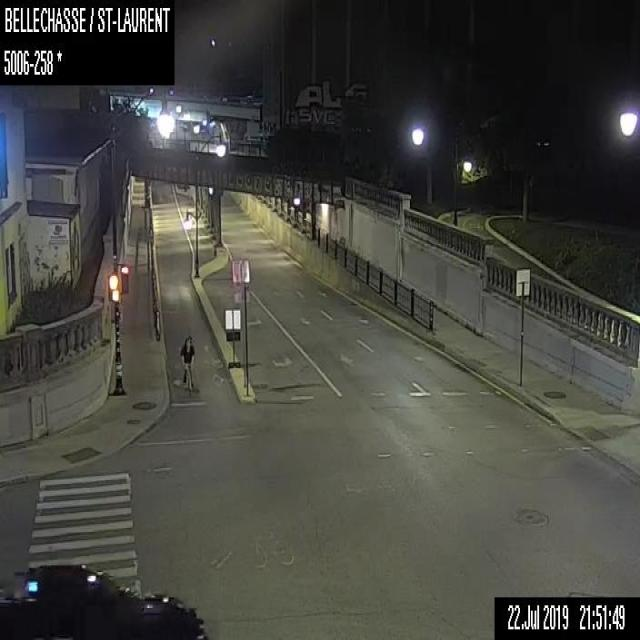cyclist: (180, 336, 194, 389)
vehicle: (0, 564, 205, 639)
